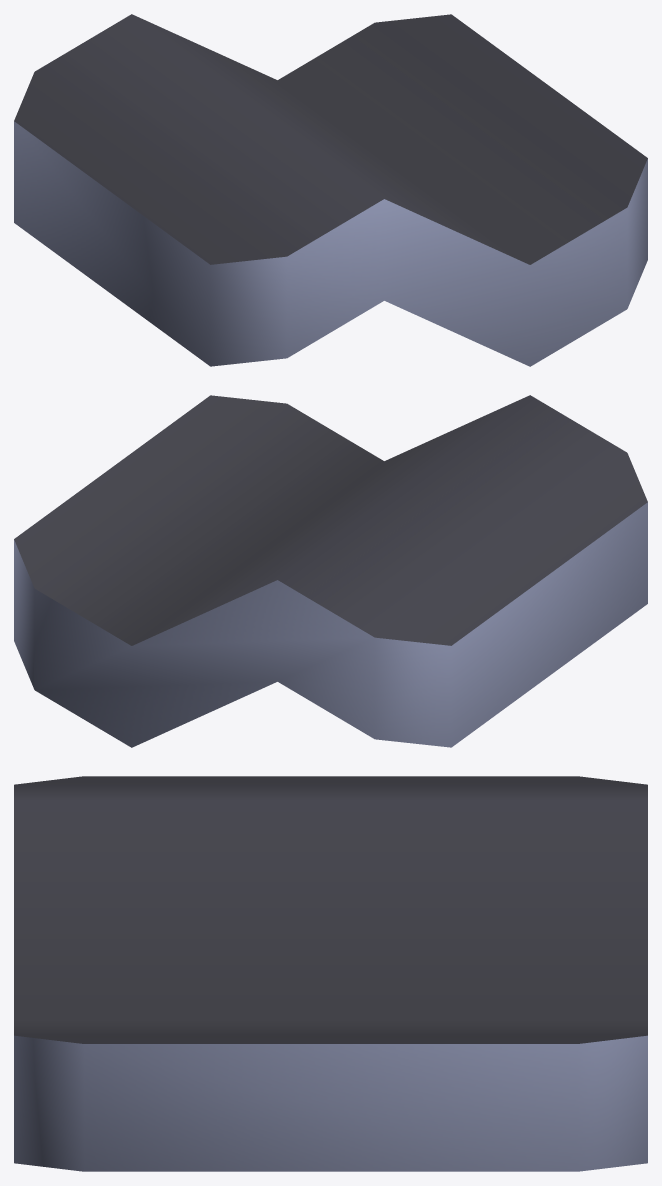
Rendered from debris-plate-small-b.glb.
3 views of the same model, one above another, from view 1: azimuth 30°, elevation 25°; view 2: azimuth 150°, elevation 25°; view 3: azimuth 270°, elevation 25° (orthographic). The views are drawn at different scales.
Visible parts, largest first — view 1: debris-plate-small-b; view 2: debris-plate-small-b; view 3: debris-plate-small-b.
Part boxes in pixels (x1,y1,x2,y2): debris-plate-small-b: (14, 14, 647, 366); debris-plate-small-b: (14, 395, 647, 747); debris-plate-small-b: (14, 776, 647, 1171).
Size of the model in its own units: 0.45 by 0.2 by 0.45.
1 material, 1 textured.
